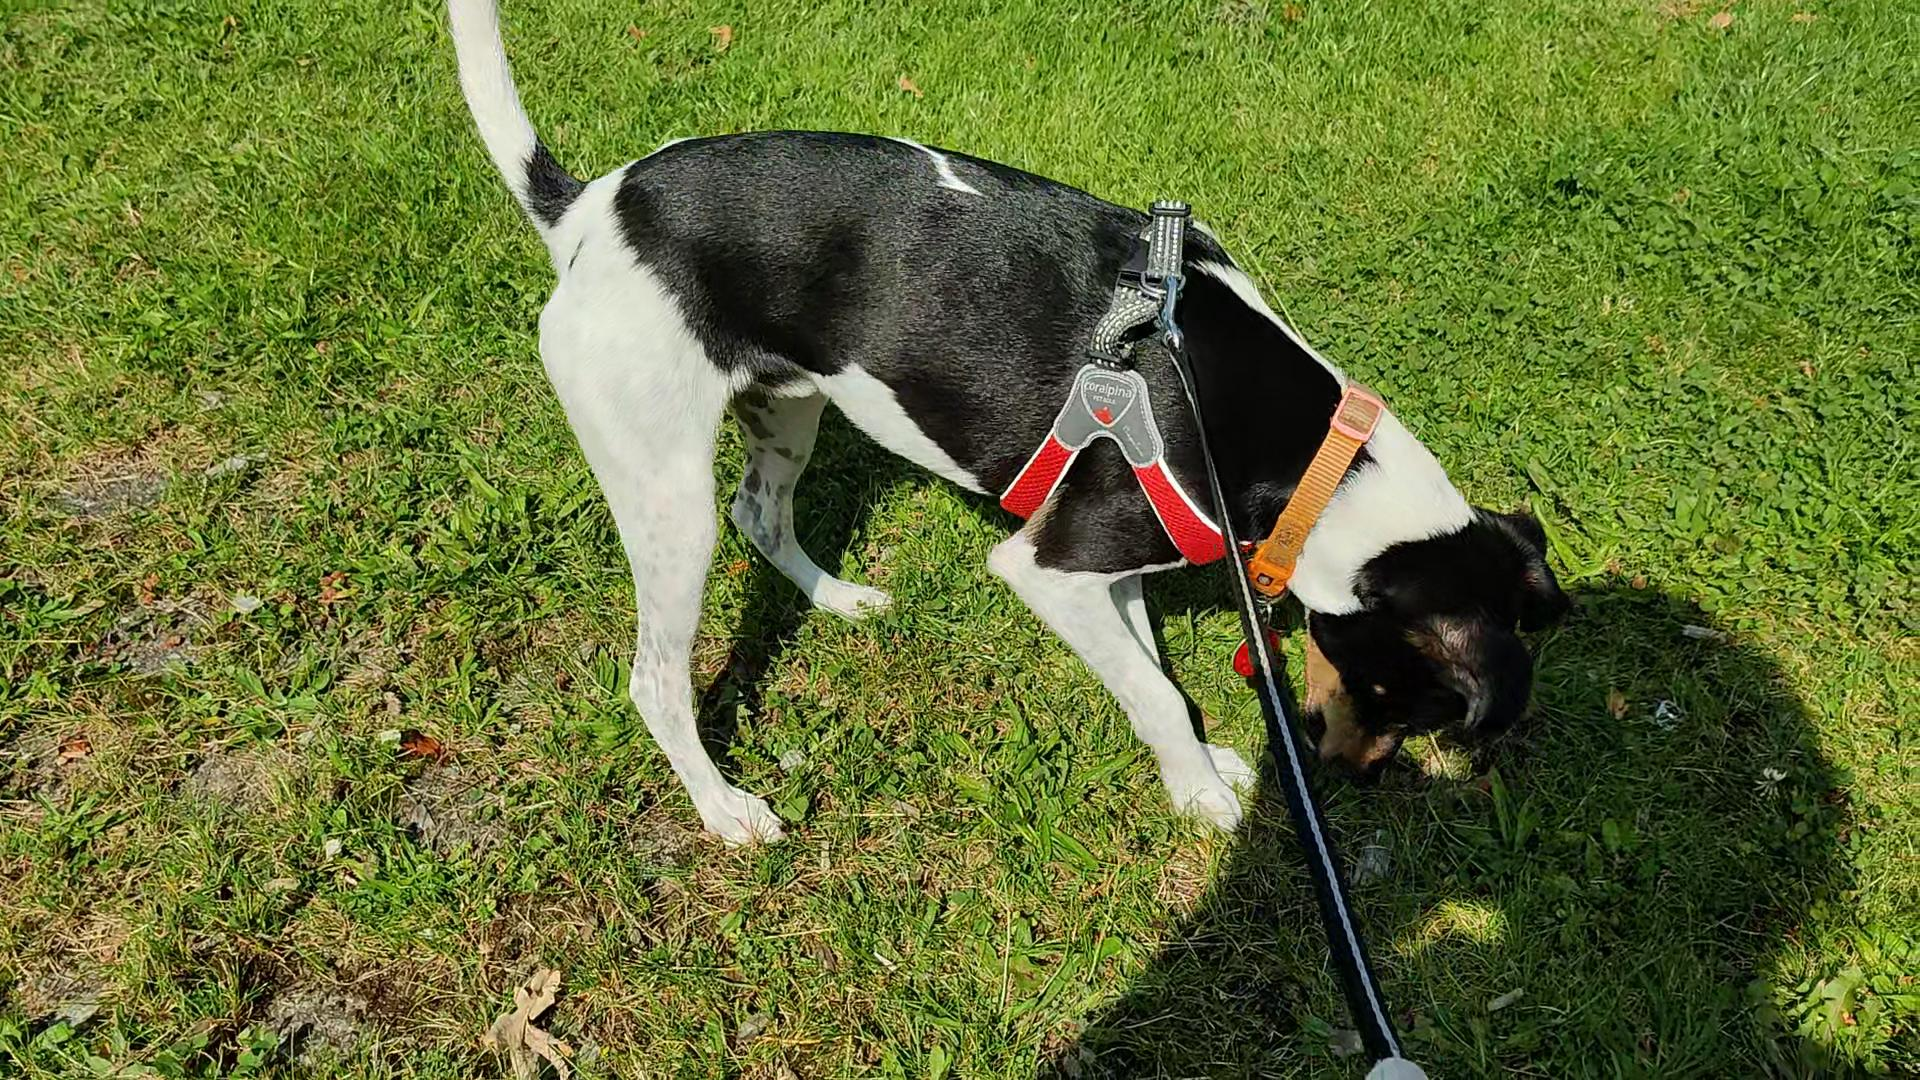Dog: (425, 0, 1592, 865)
